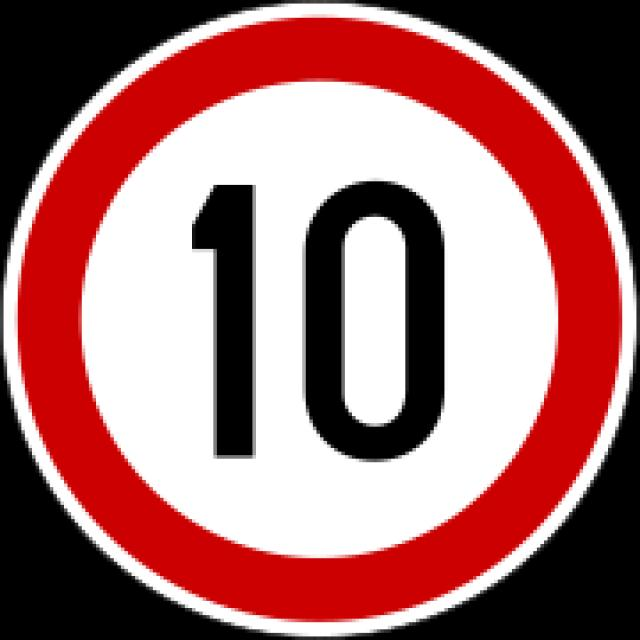Speed Limit -10-: (182, 178, 458, 480)
